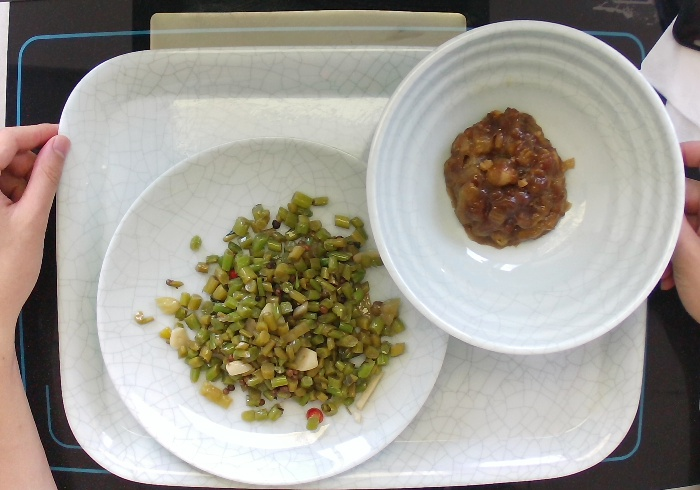JYsf-Da_Tang_Wan: (360, 15, 690, 361)
JYsf-Da_Yuan_Pan: (93, 133, 454, 490)
